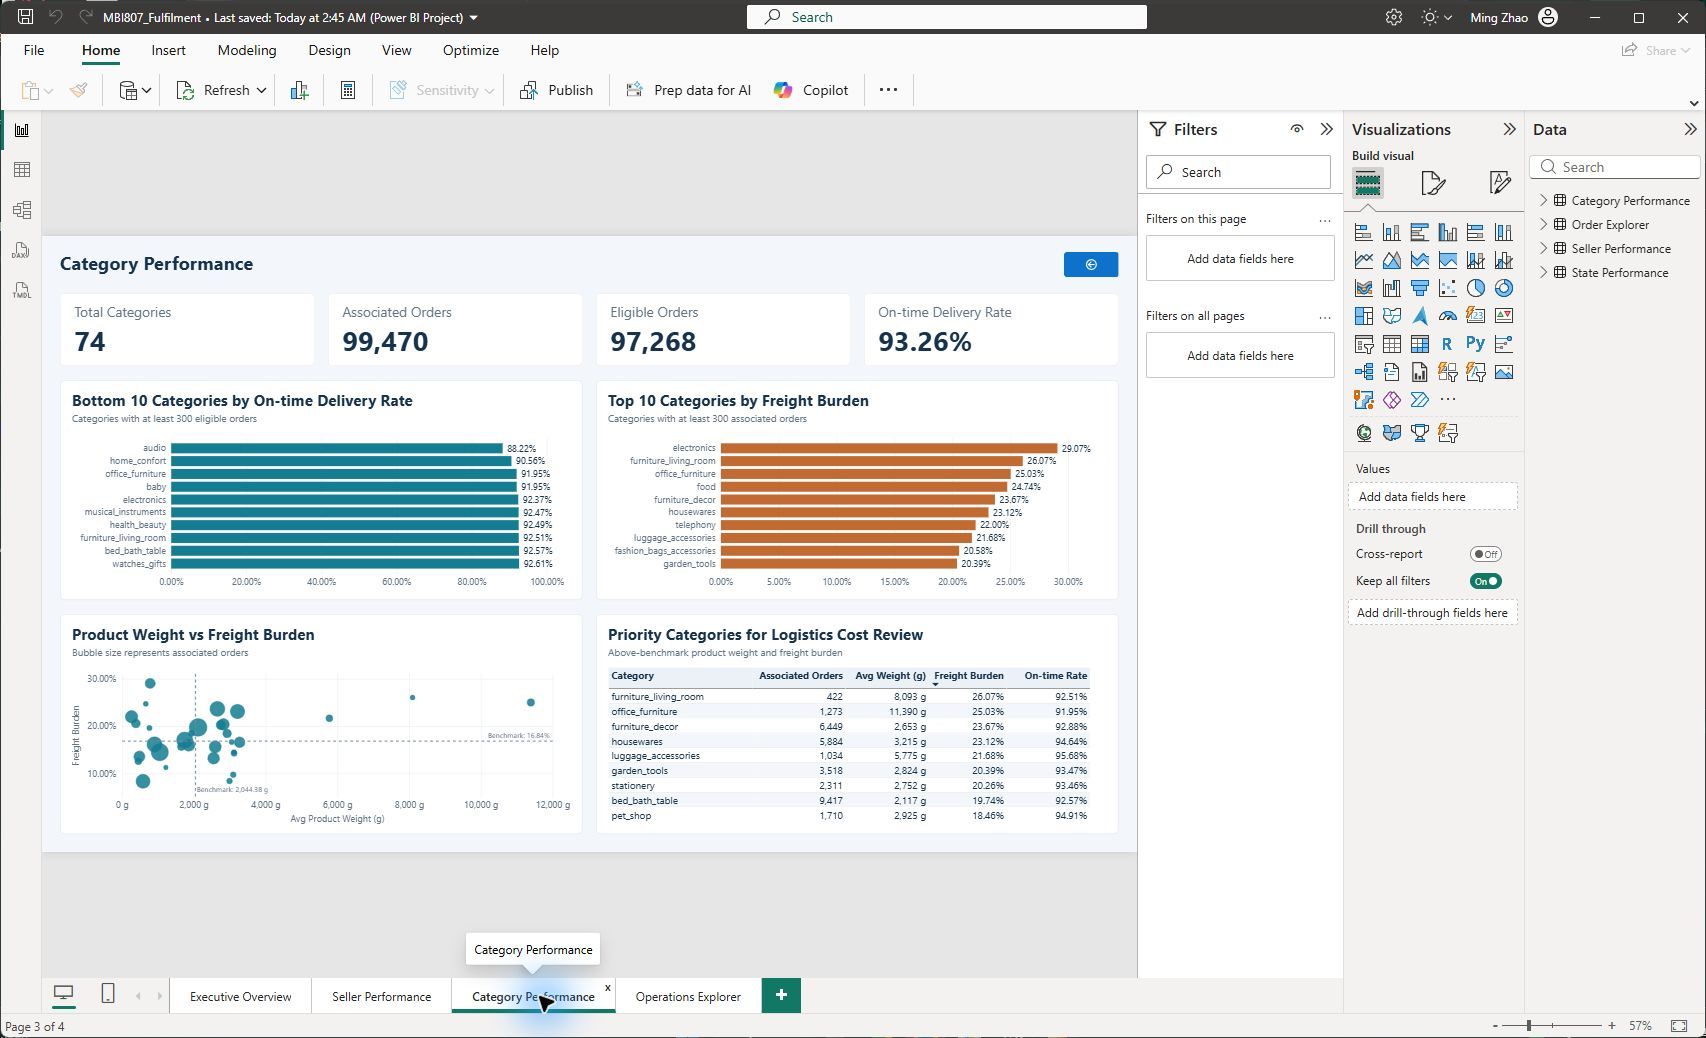

The dashboard page shown, as its layout file describes it:
{"tool":"powerbi","page":{"name":"Category Performance","canvas":[1920,1080],"ordinal":2},"visuals":[{"type":"cardVisual","fields":{"Data":["Category Performance.Total Categories"]},"box":[32,100,446,128],"z":0},{"type":"cardVisual","fields":{"Data":["Category Performance.Category Associated Orders"]},"box":[502,100,446,128],"z":1000},{"type":"cardVisual","fields":{"Data":["Category Performance.Eligible Category Orders"]},"box":[972,100,446,128],"z":2000},{"type":"cardVisual","fields":{"Data":["Category Performance.Category On-time Delivery Rate"]},"box":[1442,100,446,128],"z":3000},{"type":"clusteredBarChart","title":"Bottom 10 Categories by On-time Delivery Rate","fields":{"Category":["Category Performance.category_display"],"Y":["Category Performance.Category On-time Delivery Rate"]},"box":[32,252,916,386],"z":4000},{"type":"clusteredBarChart","title":"Top 10 Categories by Freight Burden","fields":{"Category":["Category Performance.category_display"],"Y":["Category Performance.Category Freight Burden"]},"box":[972,252,916,386],"z":5000},{"type":"scatterChart","title":"Product Weight vs Freight Burden","fields":{"Category":["Category Performance.category_display"],"Size":["Category Performance.Category Associated Orders"],"X":["Category Performance.Avg Category Product Weight"],"Y":["Category Performance.Category Freight Burden"]},"box":[32,662,916,386],"z":6000},{"type":"actionButton","box":[1792,28,96,44],"z":7000},{"type":"tableEx","title":"Priority Categories for Logistics Cost Review","fields":{"Values":["Category Performance.category_display","Category Performance.Category Associated Orders","Category Performance.Avg Category Product Weight","Category Performance.Category Freight Burden","Category Performance.Category On-time Delivery Rate"]},"box":[972,662,916,386],"z":7001},{"type":"textbox","box":[32,24,1720,56],"z":9000}]}

Visuals, with their boxes on the page's 1920x1080 design canvas (x1, y1, x2, y2). These are canvas units, not pixel positions in the 1706x1038 screenshot, which may show the page scaled, cropped or inside an application window:
cardVisual - Category Performance.Total Categories: box=[32, 100, 478, 228]
cardVisual - Category Performance.Category Associated Orders: box=[502, 100, 948, 228]
cardVisual - Category Performance.Eligible Category Orders: box=[972, 100, 1418, 228]
cardVisual - Category Performance.Category On-time Delivery Rate: box=[1442, 100, 1888, 228]
"Bottom 10 Categories by On-time Delivery Rate" clusteredBarChart: box=[32, 252, 948, 638]
"Top 10 Categories by Freight Burden" clusteredBarChart: box=[972, 252, 1888, 638]
"Product Weight vs Freight Burden" scatterChart: box=[32, 662, 948, 1048]
actionButton: box=[1792, 28, 1888, 72]
"Priority Categories for Logistics Cost Review" tableEx: box=[972, 662, 1888, 1048]
textbox: box=[32, 24, 1752, 80]
